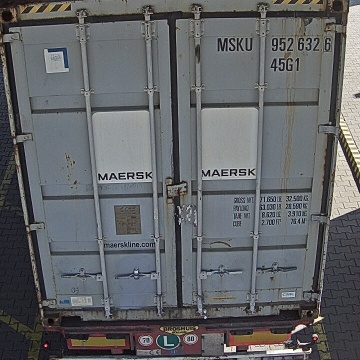serial_id: (217, 37, 332, 51)
